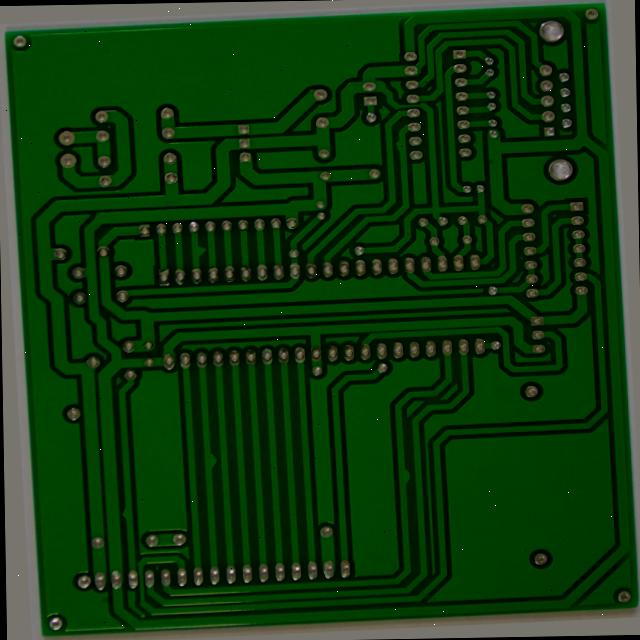spur: (190, 449, 210, 476), (390, 472, 410, 496), (401, 131, 417, 155), (187, 234, 205, 254), (101, 502, 116, 524)
